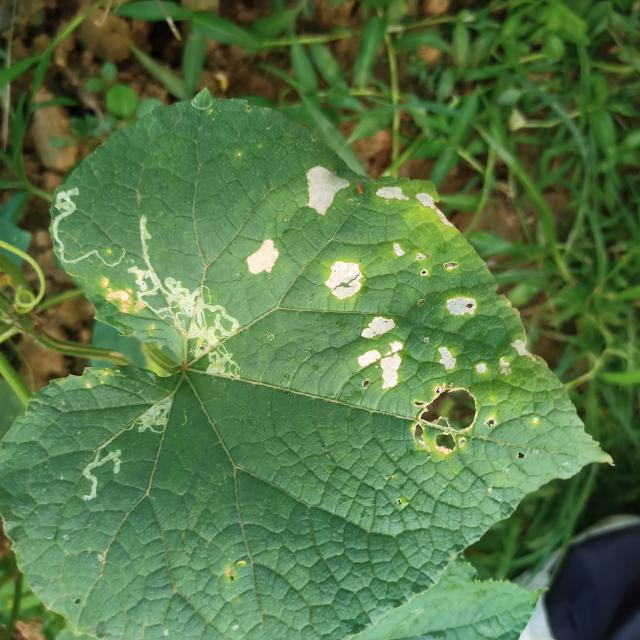disease_cucumber: (301, 162, 531, 455), (240, 234, 290, 281)
